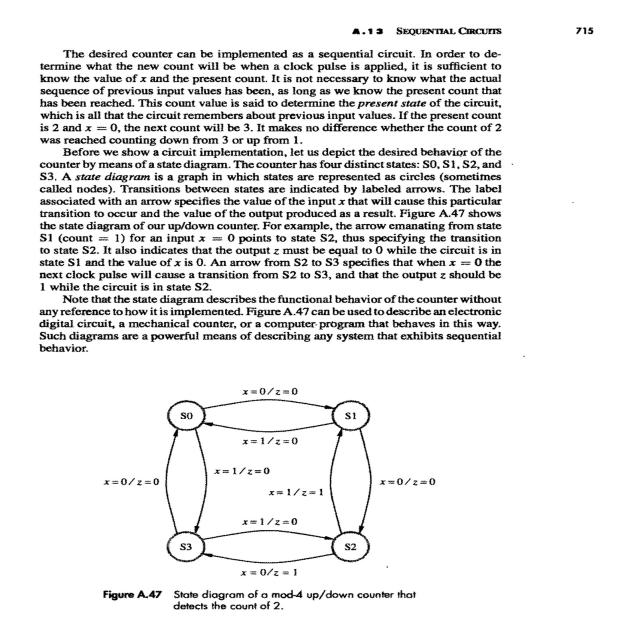diagram: (66, 361, 496, 618)
